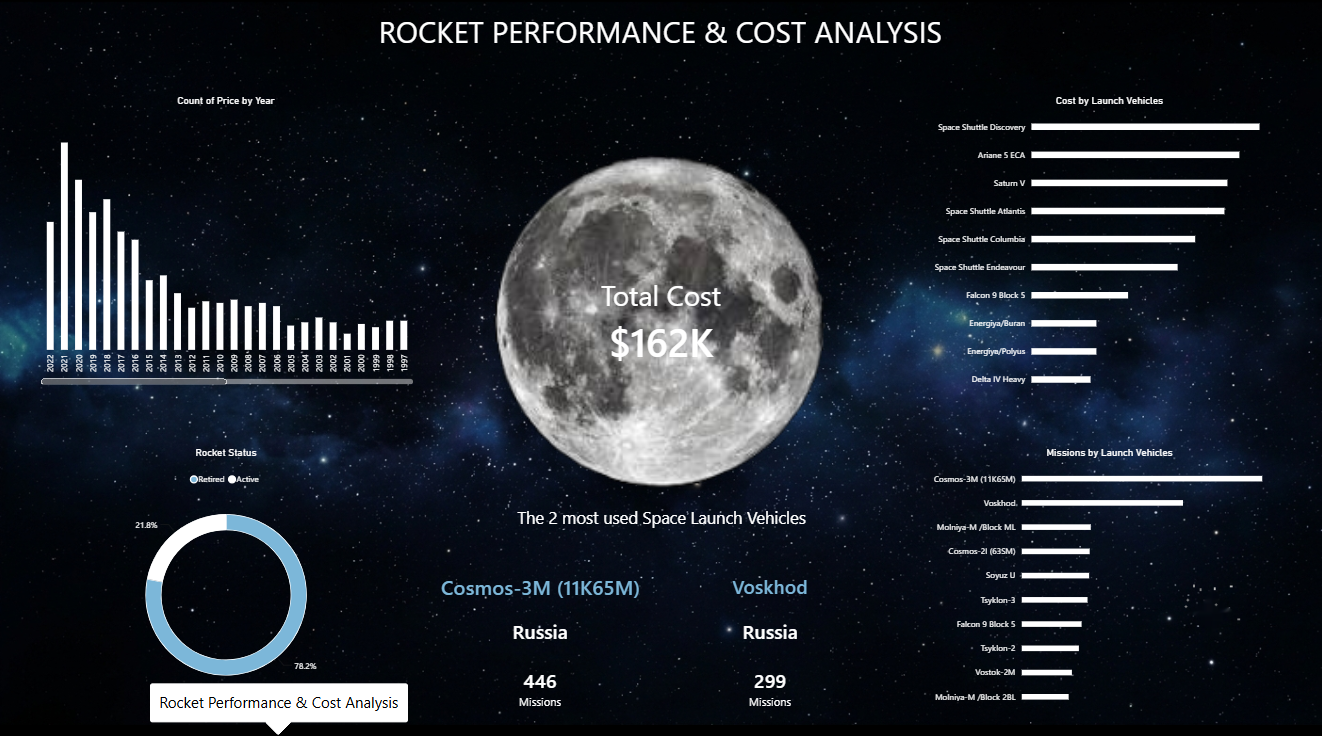

The dashboard page shown, as its layout file describes it:
{"tool":"powerbi","page":{"name":"Rocket Performance & Cost Analysis","canvas":[1920,1080],"ordinal":2},"visuals":[{"type":"image","box":[642.4,235.9,635.2,485],"z":0},{"type":"textbox","box":[522.1,25.3,875.9,65.1],"z":1000},{"type":"donutChart","title":"Rocket Status","fields":{"Y":["CountNonNull(space_missions.MissionStatus)"],"Category":["space_missions.RocketStatus"]},"box":[43.3,642.8,573.5,398.2],"z":2000},{"type":"textbox","box":[642.8,744.5,636.3,60.6],"z":3000},{"type":"cardVisual","fields":{"Data":["_Measure.Top 1 Launch Vehicle"]},"box":[616.8,831,337.6,58.4],"z":4000},{"type":"cardVisual","fields":{"Data":["_Measure.Top 1 Missions"]},"box":[709.8,973.9,151.5,67.1],"z":5000},{"type":"cardVisual","fields":{"Data":["_Measure.Total Cost"]},"box":[811.6,311.6,298.7,331.1],"z":6000},{"type":"cardVisual","fields":{"Data":["_Measure.Top 2 Launch Vehicle"]},"box":[980.4,828.9,274.8,60.6],"z":7000},{"type":"cardVisual","fields":{"Data":["_Measure.Top 2 Missions"]},"box":[1043.1,973.9,151.5,67.1],"z":8000},{"type":"cardVisual","fields":{"Data":["_Measure.Top 1 Country"]},"box":[709.8,889.5,151.5,67.1],"z":9000},{"type":"cardVisual","fields":{"Data":["_Measure.Top 2 Country"]},"box":[1043.1,889.5,151.5,67.1],"z":10000},{"type":"clusteredColumnChart","title":"Count of Price by Year","fields":{"Y":["_Measure.Price Count"],"Category":["space_missions.Year"]},"box":[43.4,132.1,573.5,450.1],"z":11000},{"type":"clusteredBarChart","title":"Cost by Launch Vehicles","fields":{"Category":["space_missions.Rocket"],"Y":["_Measure.Total Cost"]},"box":[1330.9,132,558.3,450.1],"z":12000},{"type":"clusteredBarChart","title":"Missions by Launch Vehicles","fields":{"Category":["space_missions.Rocket"],"Y":["_Measure.Mission Count"]},"box":[1330.9,642.8,558.3,398.2],"z":13000}]}

Visuals, with their boxes in screenshot pixels (x1, y1, x2, y2), scaled from the page's 1920x1080 canvas onto the 1322x736 screenshot:
image: region(442, 161, 880, 491)
textbox: region(359, 17, 963, 62)
"Rocket Status" donutChart: region(30, 438, 425, 709)
textbox: region(443, 507, 881, 549)
cardVisual - _Measure.Top 1 Launch Vehicle: region(425, 566, 657, 606)
cardVisual - _Measure.Top 1 Missions: region(489, 664, 593, 709)
cardVisual - _Measure.Total Cost: region(559, 212, 764, 438)
cardVisual - _Measure.Top 2 Launch Vehicle: region(675, 565, 864, 606)
cardVisual - _Measure.Top 2 Missions: region(718, 664, 823, 709)
cardVisual - _Measure.Top 1 Country: region(489, 606, 593, 652)
cardVisual - _Measure.Top 2 Country: region(718, 606, 823, 652)
"Count of Price by Year" clusteredColumnChart: region(30, 90, 425, 397)
"Cost by Launch Vehicles" clusteredBarChart: region(916, 90, 1301, 397)
"Missions by Launch Vehicles" clusteredBarChart: region(916, 438, 1301, 709)
